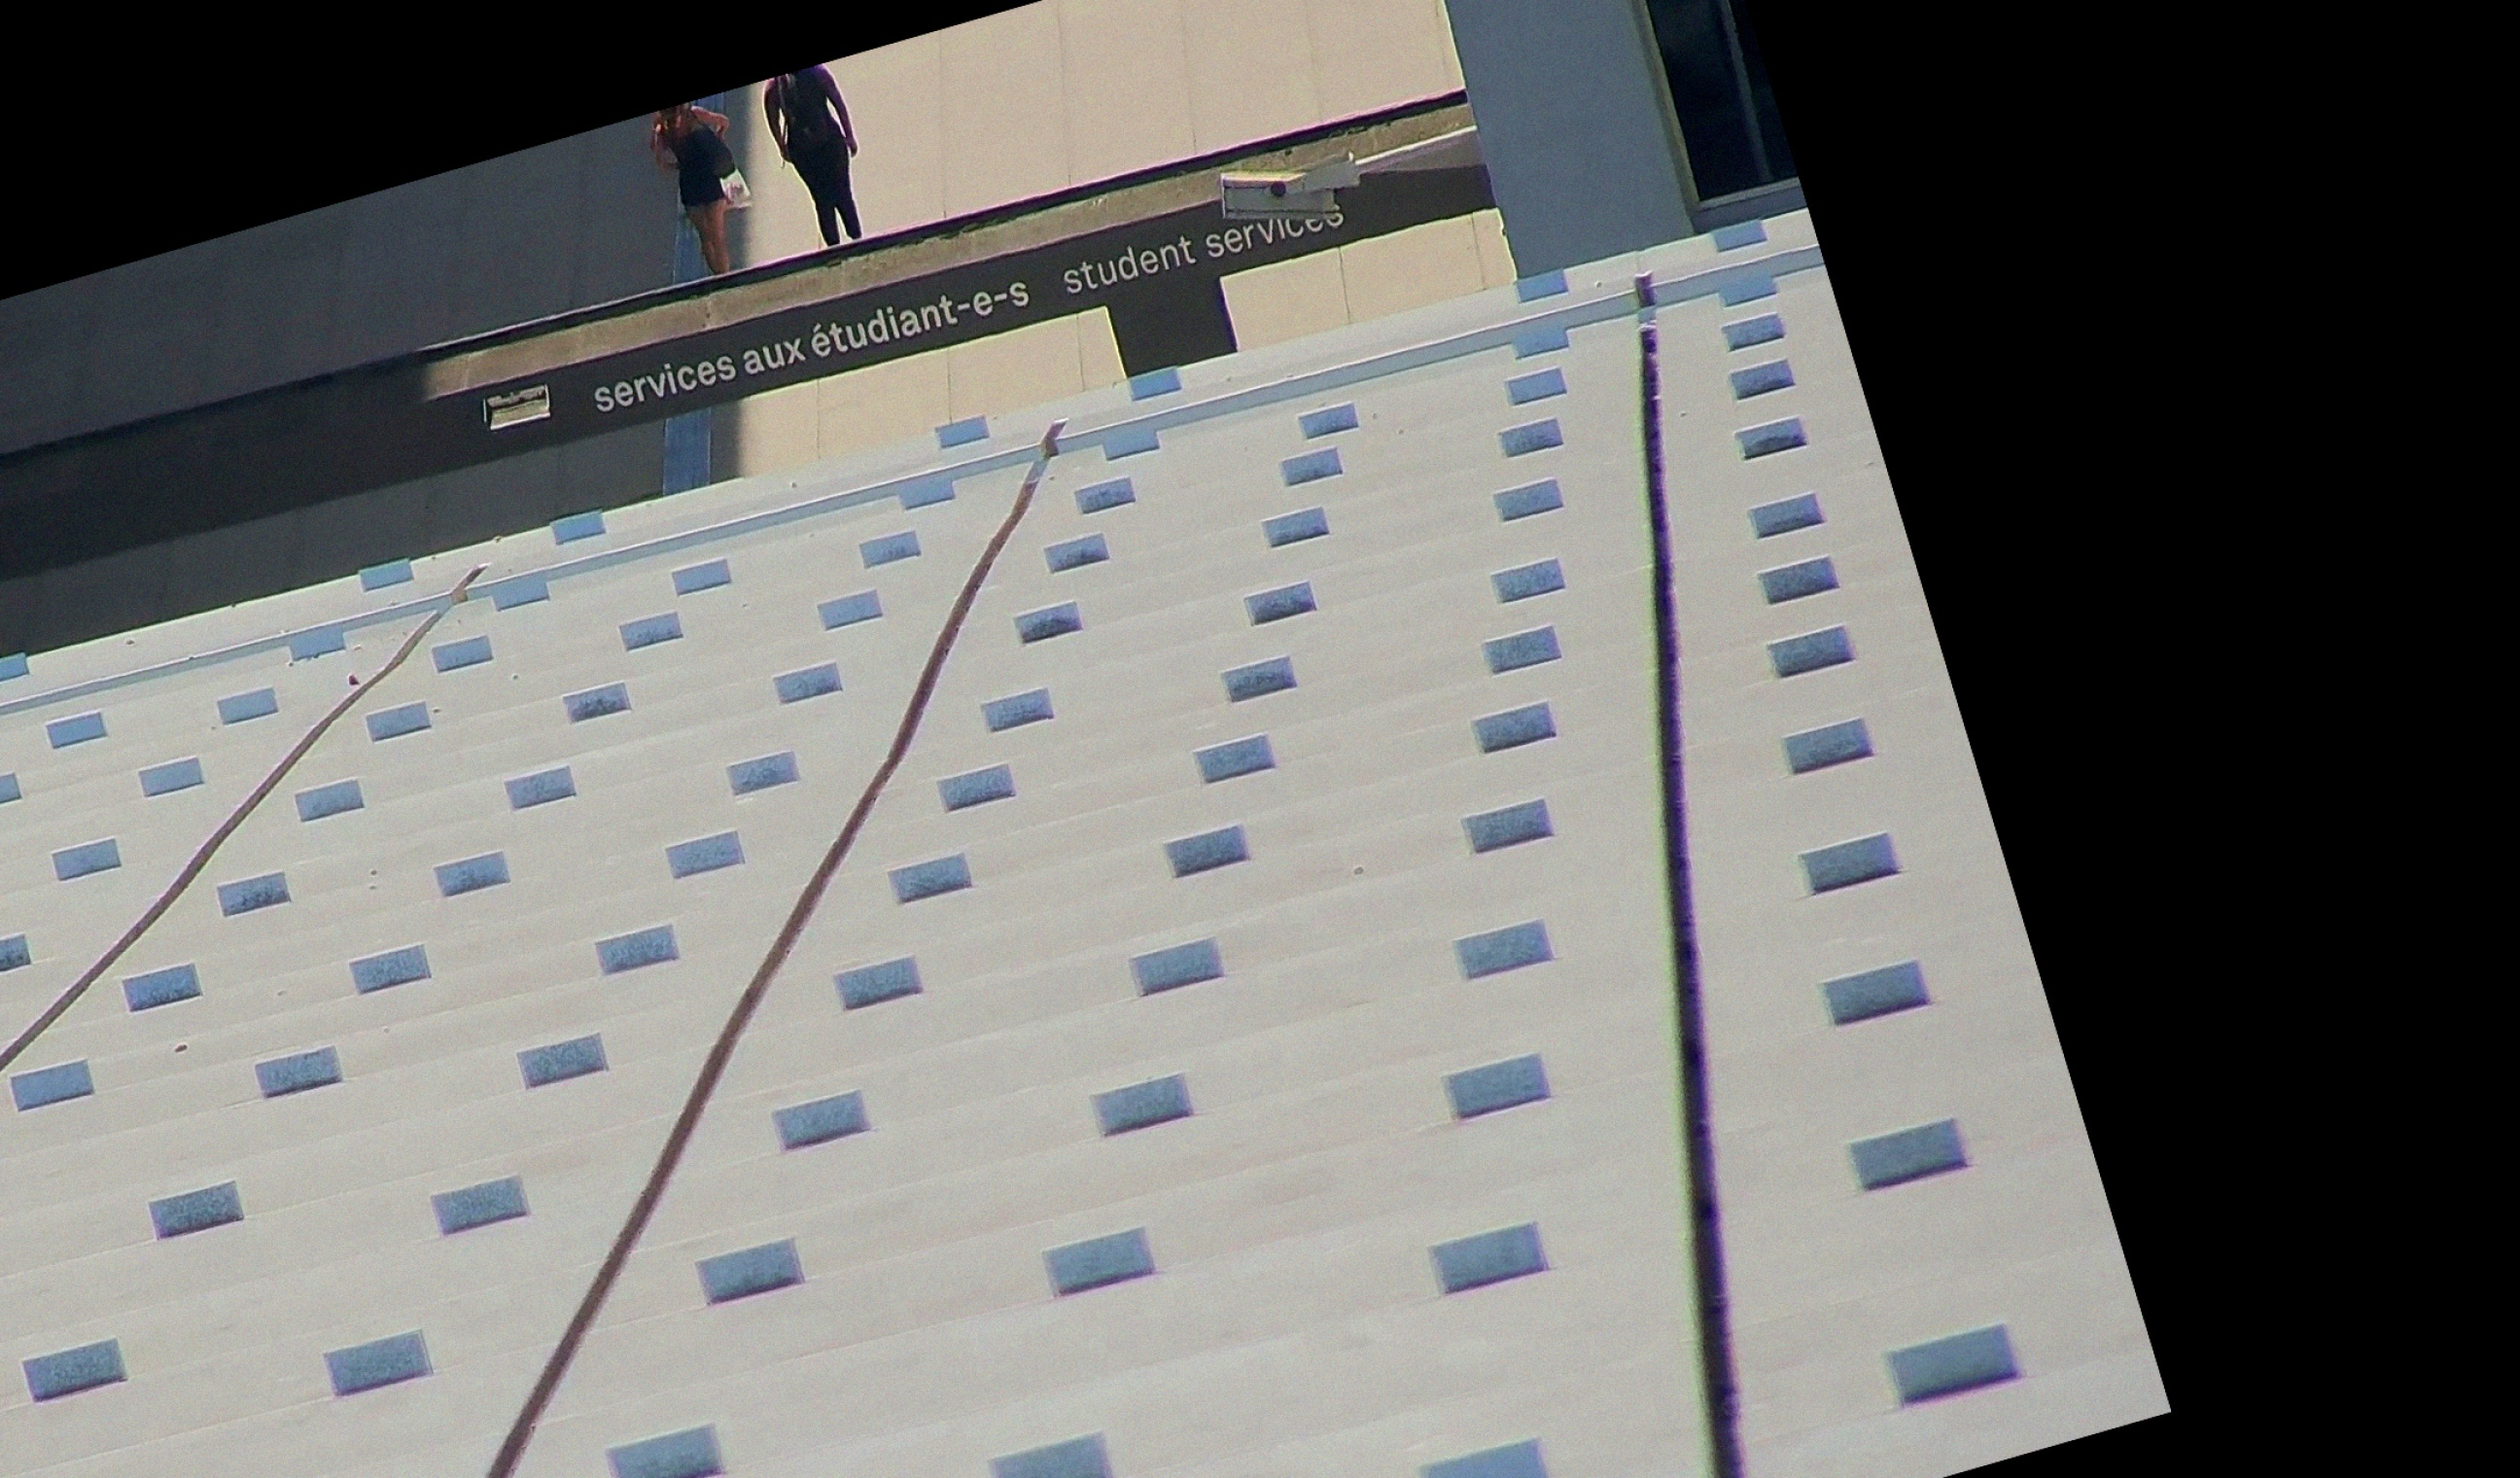Other: (749, 56, 900, 257)
